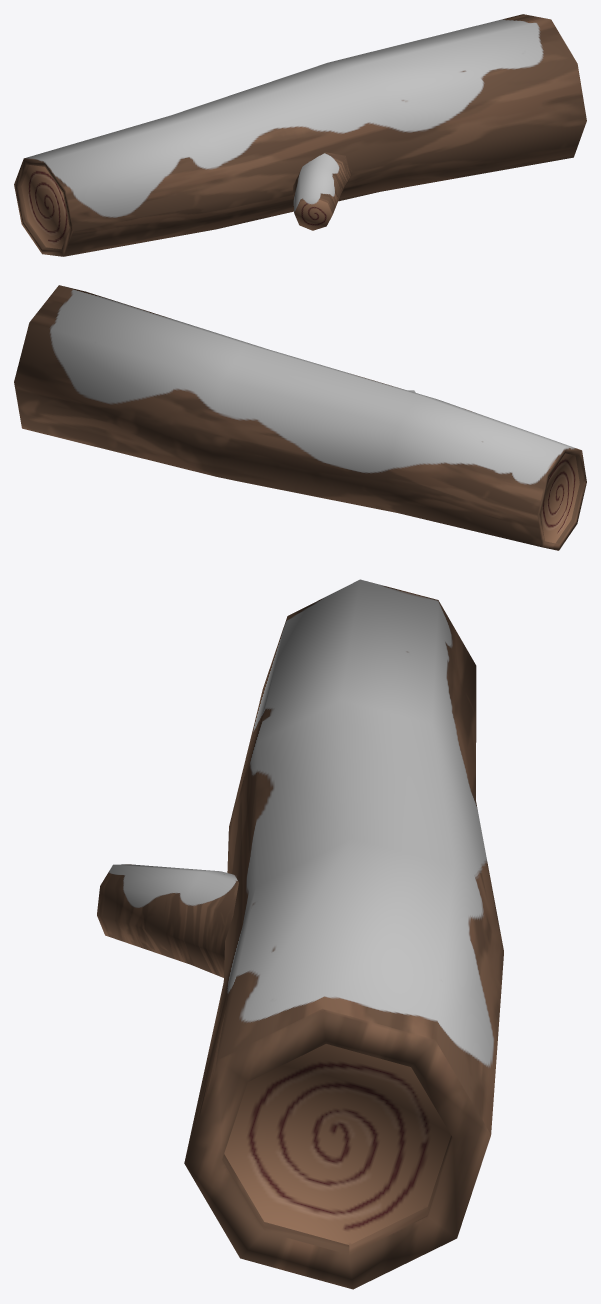
The model's file is log_03.glb.
3 renders of one model, top to bottom at view 1: azimuth 30°, elevation 25°; view 2: azimuth 150°, elevation 25°; view 3: azimuth 270°, elevation 25°, orthographic. The views are drawn at different scales.
Visible parts, largest first — view 1: Tree_log.003; view 2: Tree_log.003; view 3: Tree_log.003.
Boxes of the visible parts, left/top/right/bottom form: Tree_log.003: left=14, top=14, right=586, bottom=256; Tree_log.003: left=14, top=285, right=586, bottom=550; Tree_log.003: left=97, top=579, right=503, bottom=1289.
Bounding box in the file's own units: 4.41 × 1.17 × 1.55.
Materials: 1 (1 with a texture image).
